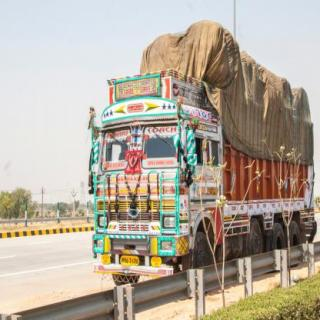Normal_vehicle: (80, 17, 319, 283)
